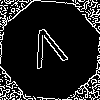V: (25, 25, 72, 78)
